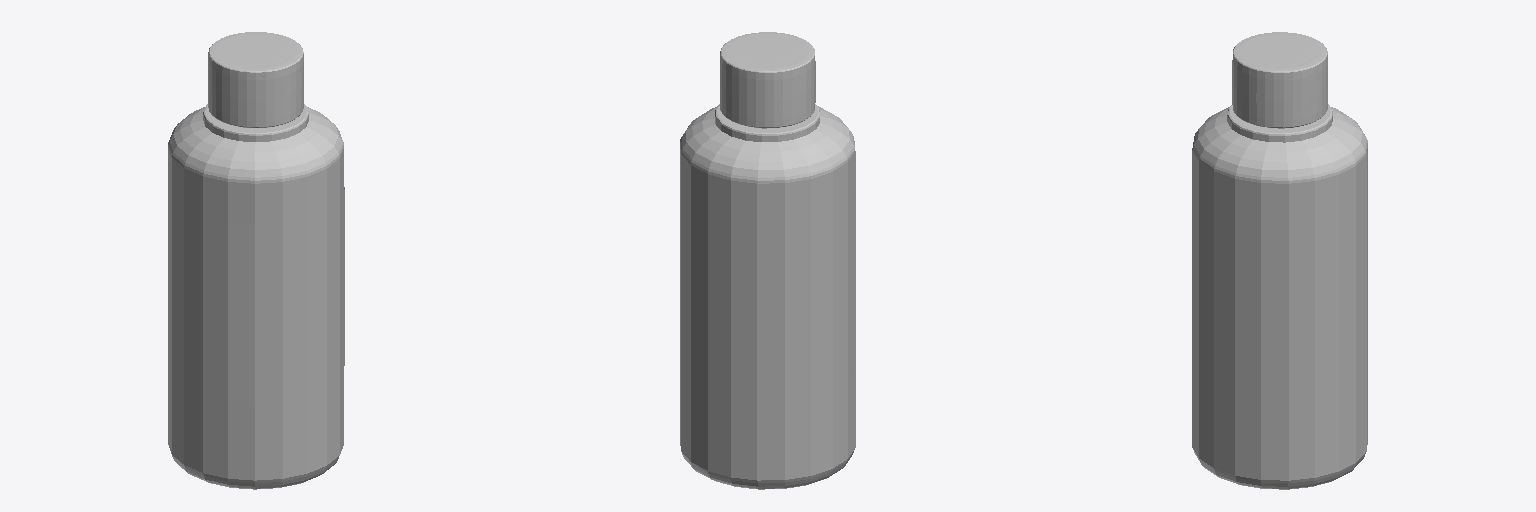
The model's file is alcohol.obj.
3 views of the same model, side by side, from view 1: azimuth 30°, elevation 25°; view 2: azimuth 150°, elevation 25°; view 3: azimuth 270°, elevation 25° (orthographic).
Visible parts, largest first — view 1: polySurface1, polySurface2, pCylinder2; view 2: polySurface1, pCylinder2, polySurface2; view 3: polySurface1, polySurface2, pCylinder2.
Part boxes in pixels (x1,y1,x2,y2): polySurface1: (168,104,343,489); polySurface2: (184,187,344,401); pCylinder2: (208,32,303,127); polySurface1: (680,104,855,489); pCylinder2: (720,32,815,127); polySurface2: (849,193,855,378); polySurface1: (1192,104,1367,489); polySurface2: (1192,193,1260,400); pCylinder2: (1232,32,1327,127).
Bounding box in the file's own units: 0.3195 × 0.8172 × 0.3195.